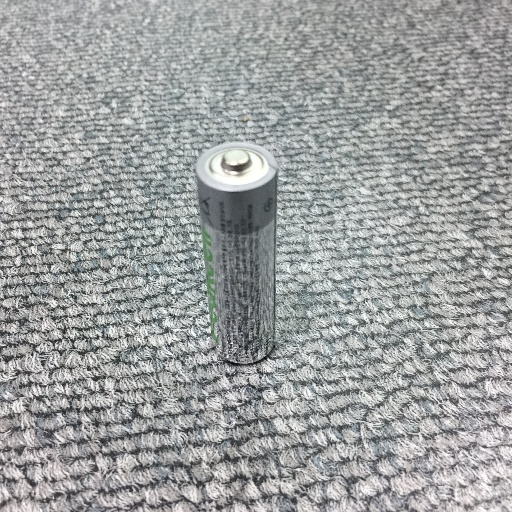Battery_0: (191, 133, 297, 373)
